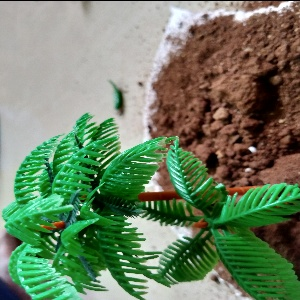plant: (5, 114, 298, 300)
